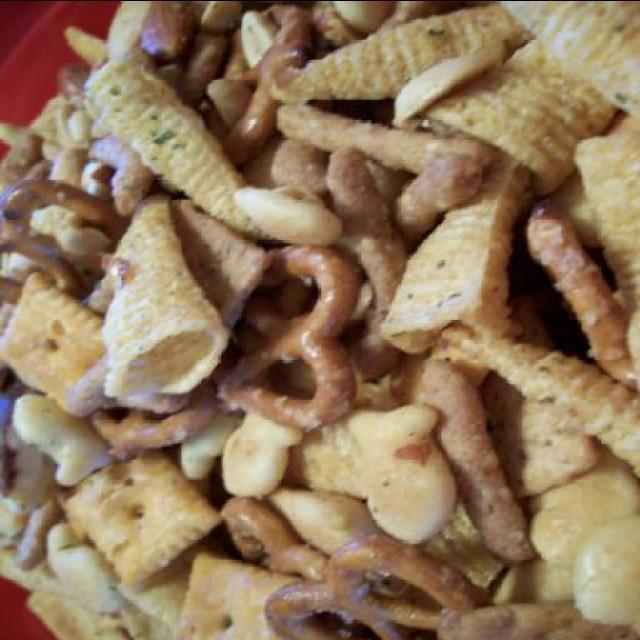Salatini packaged: (17, 10, 631, 632)
